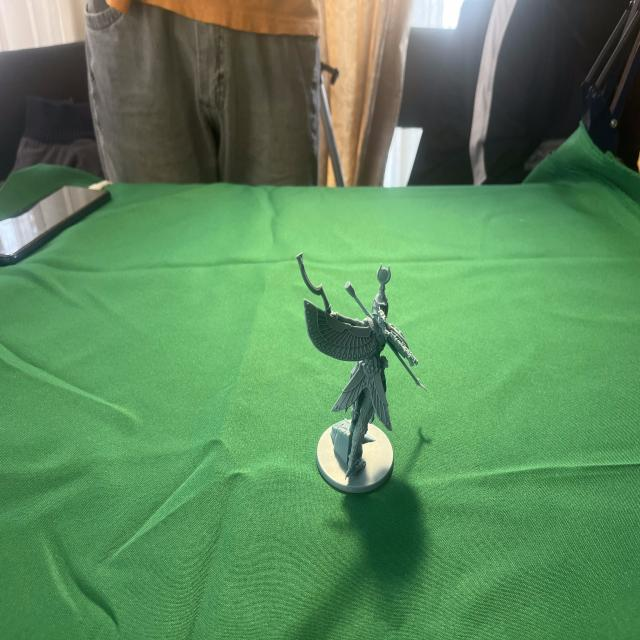isis: (288, 238, 428, 500)
